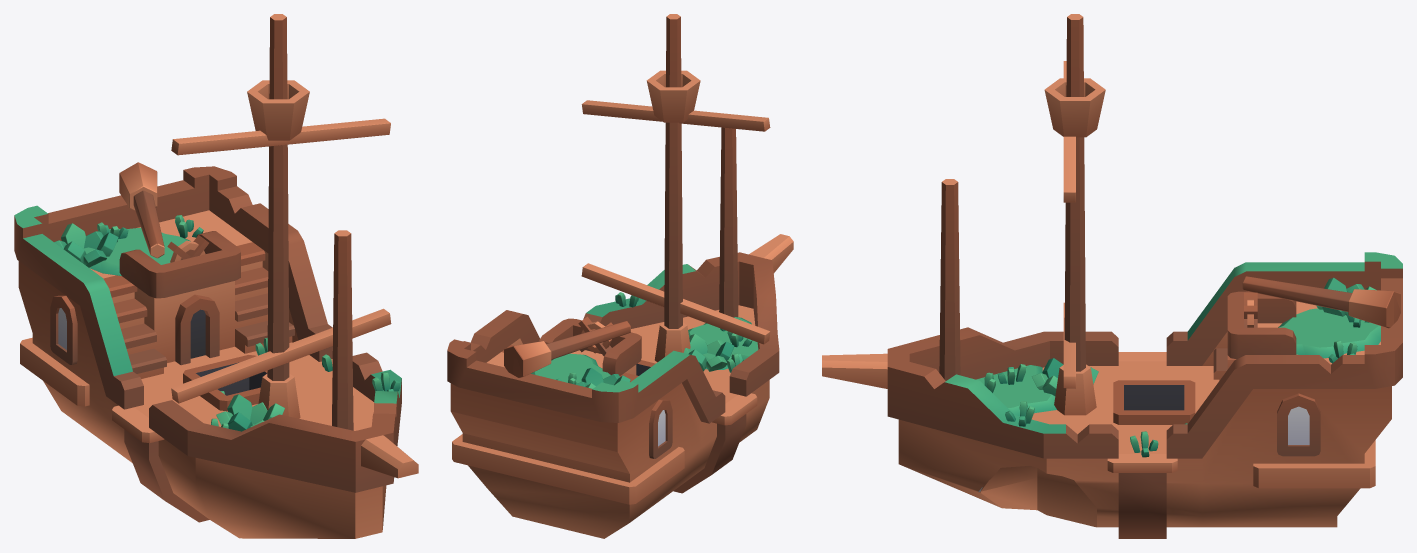
The model's file is kenney-pirate__ship-wreck.glb.
3 views of the same model, side by side, from view 1: azimuth 30°, elevation 25°; view 2: azimuth 150°, elevation 25°; view 3: azimuth 270°, elevation 25° (orthographic). The views are drawn at different scales.
Visible parts, largest first — view 1: ship-wreck, sail-a, Group.002, Group.003, Group.004, Group.001; view 2: ship-wreck, sail-a, Group.002, Group.004, Group.001, Group, Group.003; view 3: ship-wreck, Group.002, Group.004, Group, sail-a, Group.001.
Boxes of the visible parts, x1,y1,x2,y2 form: ship-wreck: (14,14,418,538); sail-a: (171,118,391,403); Group.002: (119,162,164,258); Group.003: (54,223,118,267); Group.004: (83,227,190,275); Group.001: (216,394,284,431); ship-wreck: (447,14,793,538); sail-a: (581,100,770,344); Group.002: (504,321,630,377); Group.004: (531,353,610,383); Group.001: (683,334,734,371); Group: (688,317,758,369); Group.003: (576,367,630,388); ship-wreck: (822,14,1402,538); Group.002: (1242,276,1400,328); Group.004: (1278,308,1380,358); Group: (976,365,1056,416); sail-a: (1063,61,1075,388); Group.001: (1032,358,1098,395).
Bounding box in the file's own units: 4.8 × 9.96 × 10.6.
1 material, 1 textured.
